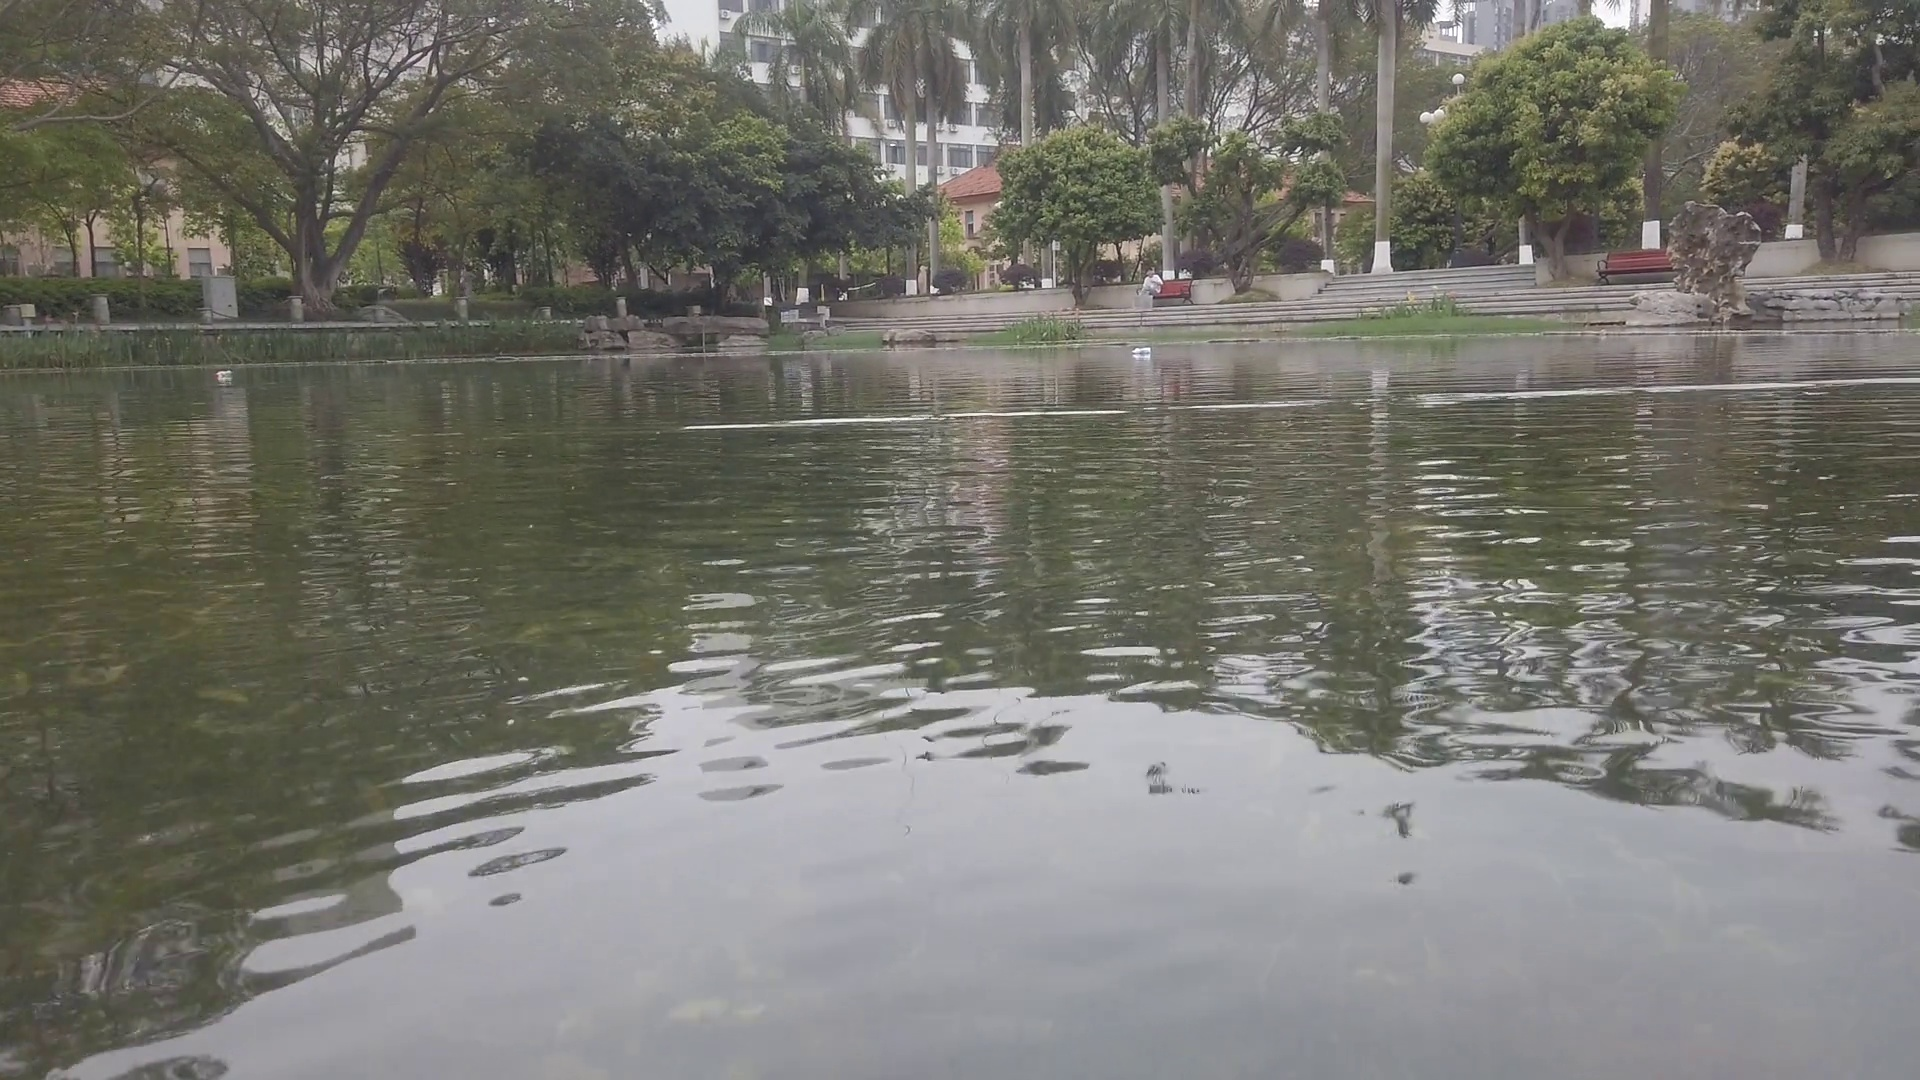bottle: (214, 371, 237, 382), (1131, 348, 1153, 357)
